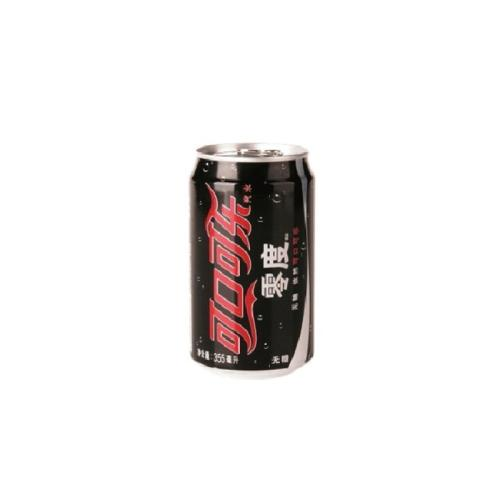coke_zero: (179, 137, 325, 386)
